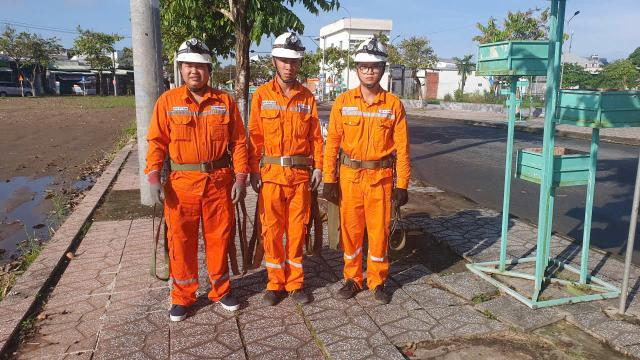gloves: (320, 178, 343, 212), (146, 180, 169, 210), (234, 169, 250, 206), (393, 183, 412, 213), (250, 165, 266, 194), (309, 167, 322, 198)
harness: (330, 150, 399, 175), (257, 148, 314, 174), (165, 156, 235, 170)
helmet: (165, 34, 222, 67), (354, 38, 398, 69), (268, 33, 312, 62)
shoes: (156, 295, 206, 322), (286, 275, 320, 308), (369, 278, 401, 312), (210, 288, 250, 313), (332, 276, 366, 304), (260, 279, 287, 314)
